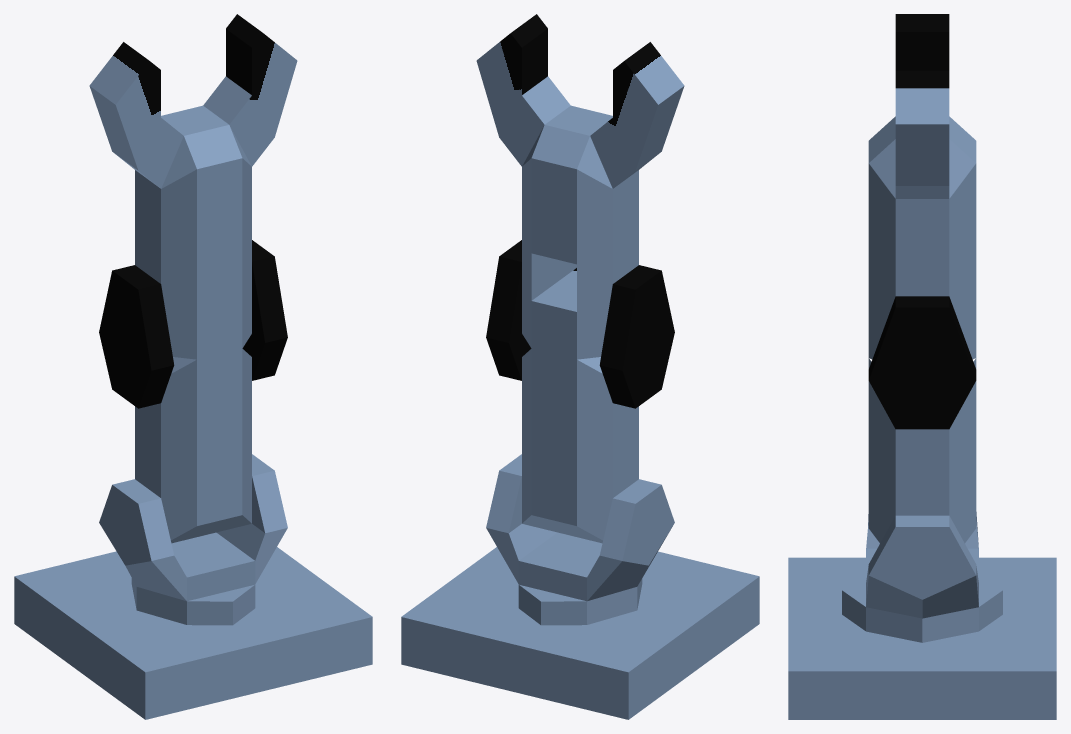
File: fullarm.glb
3 renders of one model, left to right at view 1: azimuth 30°, elevation 25°; view 2: azimuth 150°, elevation 25°; view 3: azimuth 270°, elevation 25°, orthographic. The views are drawn at different scales.
Visible parts, largest first — view 1: SecondArm, Base, FirstArm, BaseMotor; view 2: Base, SecondArm, FirstArm, BaseMotor; view 3: Base, SecondArm, FirstArm, BaseMotor.
Part boxes in pixels (x1,y1,x2,y2): SecondArm: (89,14,297,359); Base: (14,547,372,719); FirstArm: (99,240,287,543); BaseMotor: (99,454,287,625); Base: (401,547,759,719); SecondArm: (476,14,684,359); FirstArm: (486,240,674,543); BaseMotor: (486,454,674,625); Base: (788,557,1056,719); SecondArm: (868,14,976,359); FirstArm: (868,296,976,543); BaseMotor: (842,512,1002,642).
Bounding box in the file's own units: 1 × 2.55 × 1.
1 material, 1 textured.
